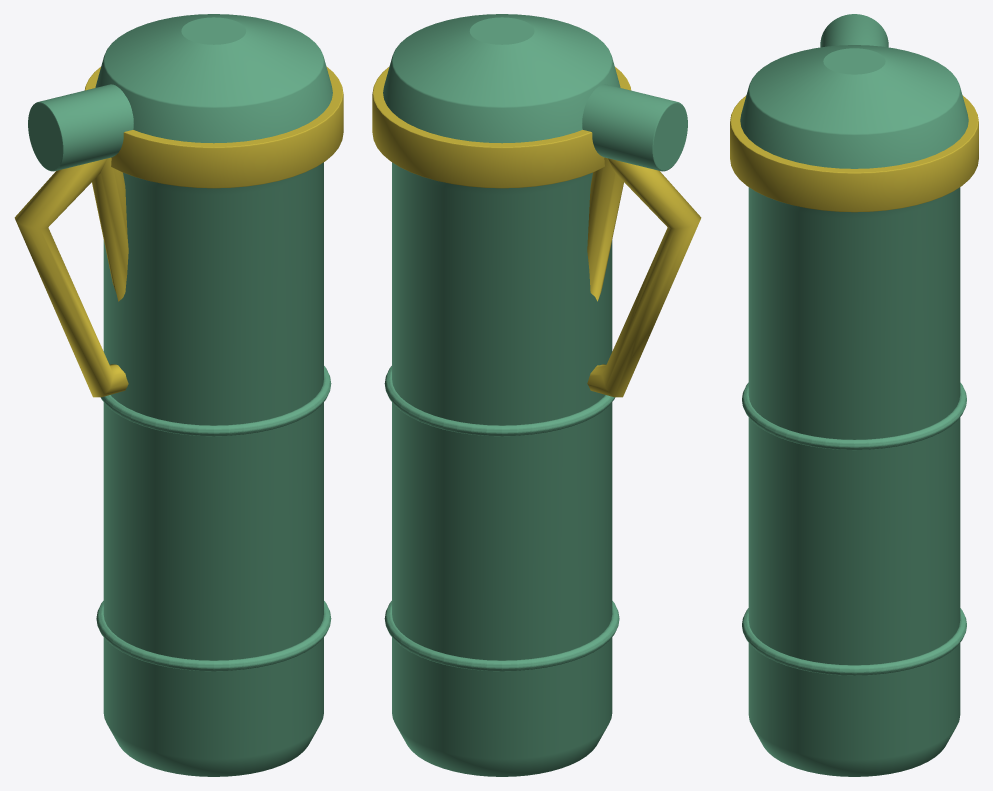
3 views of the same model, side by side, from view 1: azimuth 30°, elevation 25°; view 2: azimuth 150°, elevation 25°; view 3: azimuth 270°, elevation 25° (orthographic). The views are drawn at different scales.
Parts seen in each view (by area): view 1: TI072 / tall preparation cylinder, TI072 / trigger loop, TI072 / yellow neck collar, TI072 / spray nozzle, TI072 / sprayer body seam, TI072 / sprayer body seam.001; view 2: TI072 / tall preparation cylinder, TI072 / trigger loop, TI072 / yellow neck collar, TI072 / spray nozzle, TI072 / sprayer body seam, TI072 / sprayer body seam.001; view 3: TI072 / tall preparation cylinder, TI072 / yellow neck collar, TI072 / sprayer body seam.001, TI072 / sprayer body seam, TI072 / spray nozzle.
Boxes of the visible parts, x1=… form: TI072 / tall preparation cylinder: x1=95, y1=14, x2=332, y2=776; TI072 / trigger loop: x1=14, y1=157, x2=128, y2=397; TI072 / yellow neck collar: x1=84, y1=66, x2=343, y2=188; TI072 / spray nozzle: x1=28, y1=84, x2=133, y2=171; TI072 / sprayer body seam: x1=96, y1=601, x2=331, y2=671; TI072 / sprayer body seam.001: x1=100, y1=366, x2=331, y2=436; TI072 / tall preparation cylinder: x1=383, y1=14, x2=620, y2=776; TI072 / trigger loop: x1=587, y1=157, x2=701, y2=397; TI072 / yellow neck collar: x1=372, y1=66, x2=631, y2=188; TI072 / spray nozzle: x1=582, y1=84, x2=687, y2=171; TI072 / sprayer body seam: x1=384, y1=601, x2=619, y2=671; TI072 / sprayer body seam.001: x1=384, y1=366, x2=615, y2=436; TI072 / tall preparation cylinder: x1=740, y1=45, x2=968, y2=776; TI072 / yellow neck collar: x1=730, y1=95, x2=978, y2=212; TI072 / sprayer body seam.001: x1=742, y1=382, x2=966, y2=450; TI072 / sprayer body seam: x1=742, y1=608, x2=966, y2=675; TI072 / spray nozzle: x1=820, y1=14, x2=888, y2=47.
Bounding box in the file's own units: 1.1 × 2.4 × 0.8.
